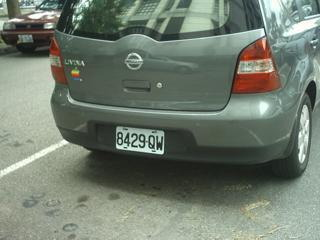plate: (114, 125, 167, 156)
